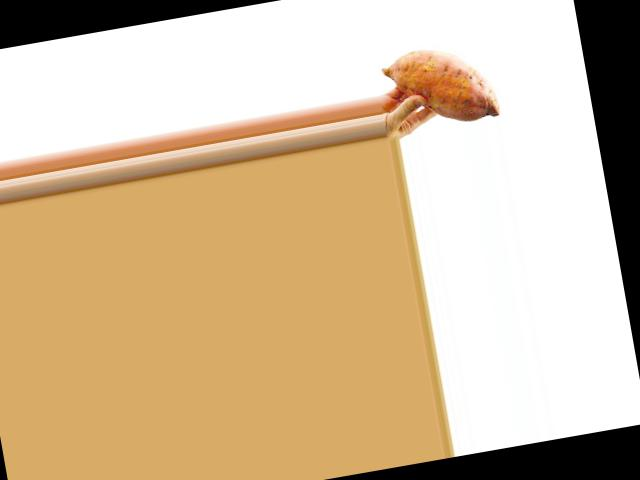sweet_potato: (382, 30, 504, 137)
